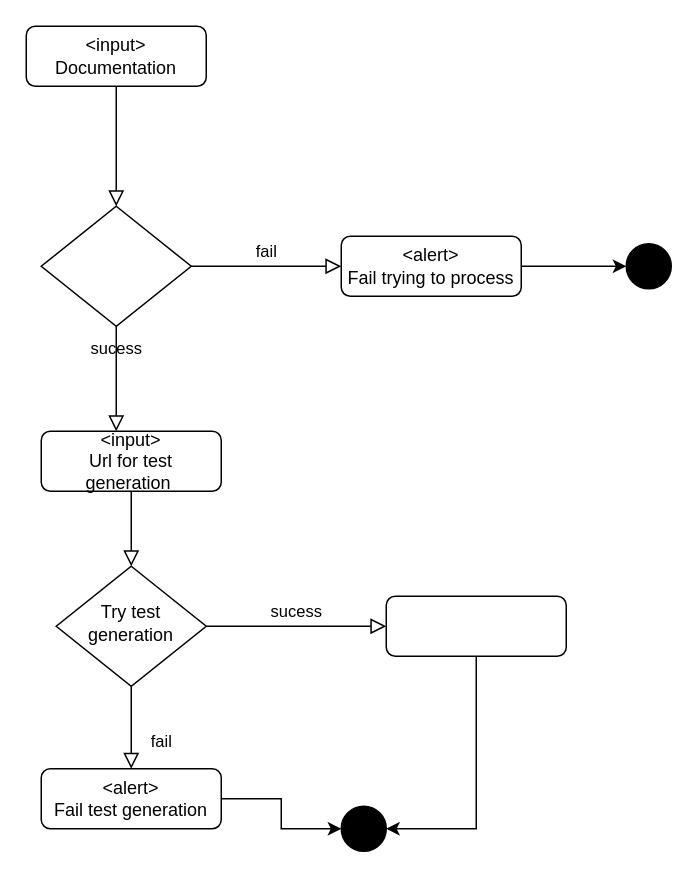
Some shapes in this 698 by 878 pixel diagram are drawn without their labels. The shapes that lost their labels are listed below. From the top down, each one's centre as x and y in pixels, then its label:
pixel 115 265: Try Process Documentation
pixel 475 625: <alert> Sucess test generation
